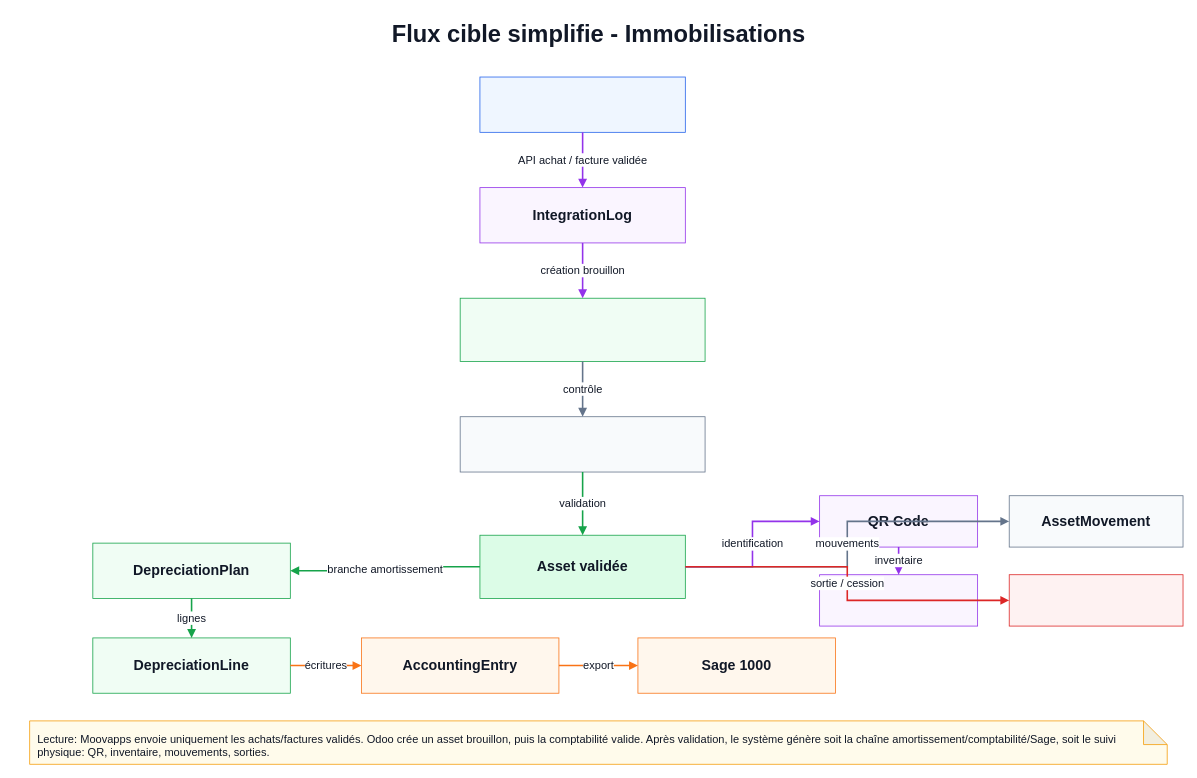
This 1197x778 diagram has some shape labels left out. Each missing label, with the centre of its shape:
Asset brouillon Odoo: (x=582, y=329)
AssetDisposal: (x=1095, y=600)
InventoryLine: (x=898, y=600)
Moovapps: (x=582, y=104)
Validation comptable: (x=582, y=444)
